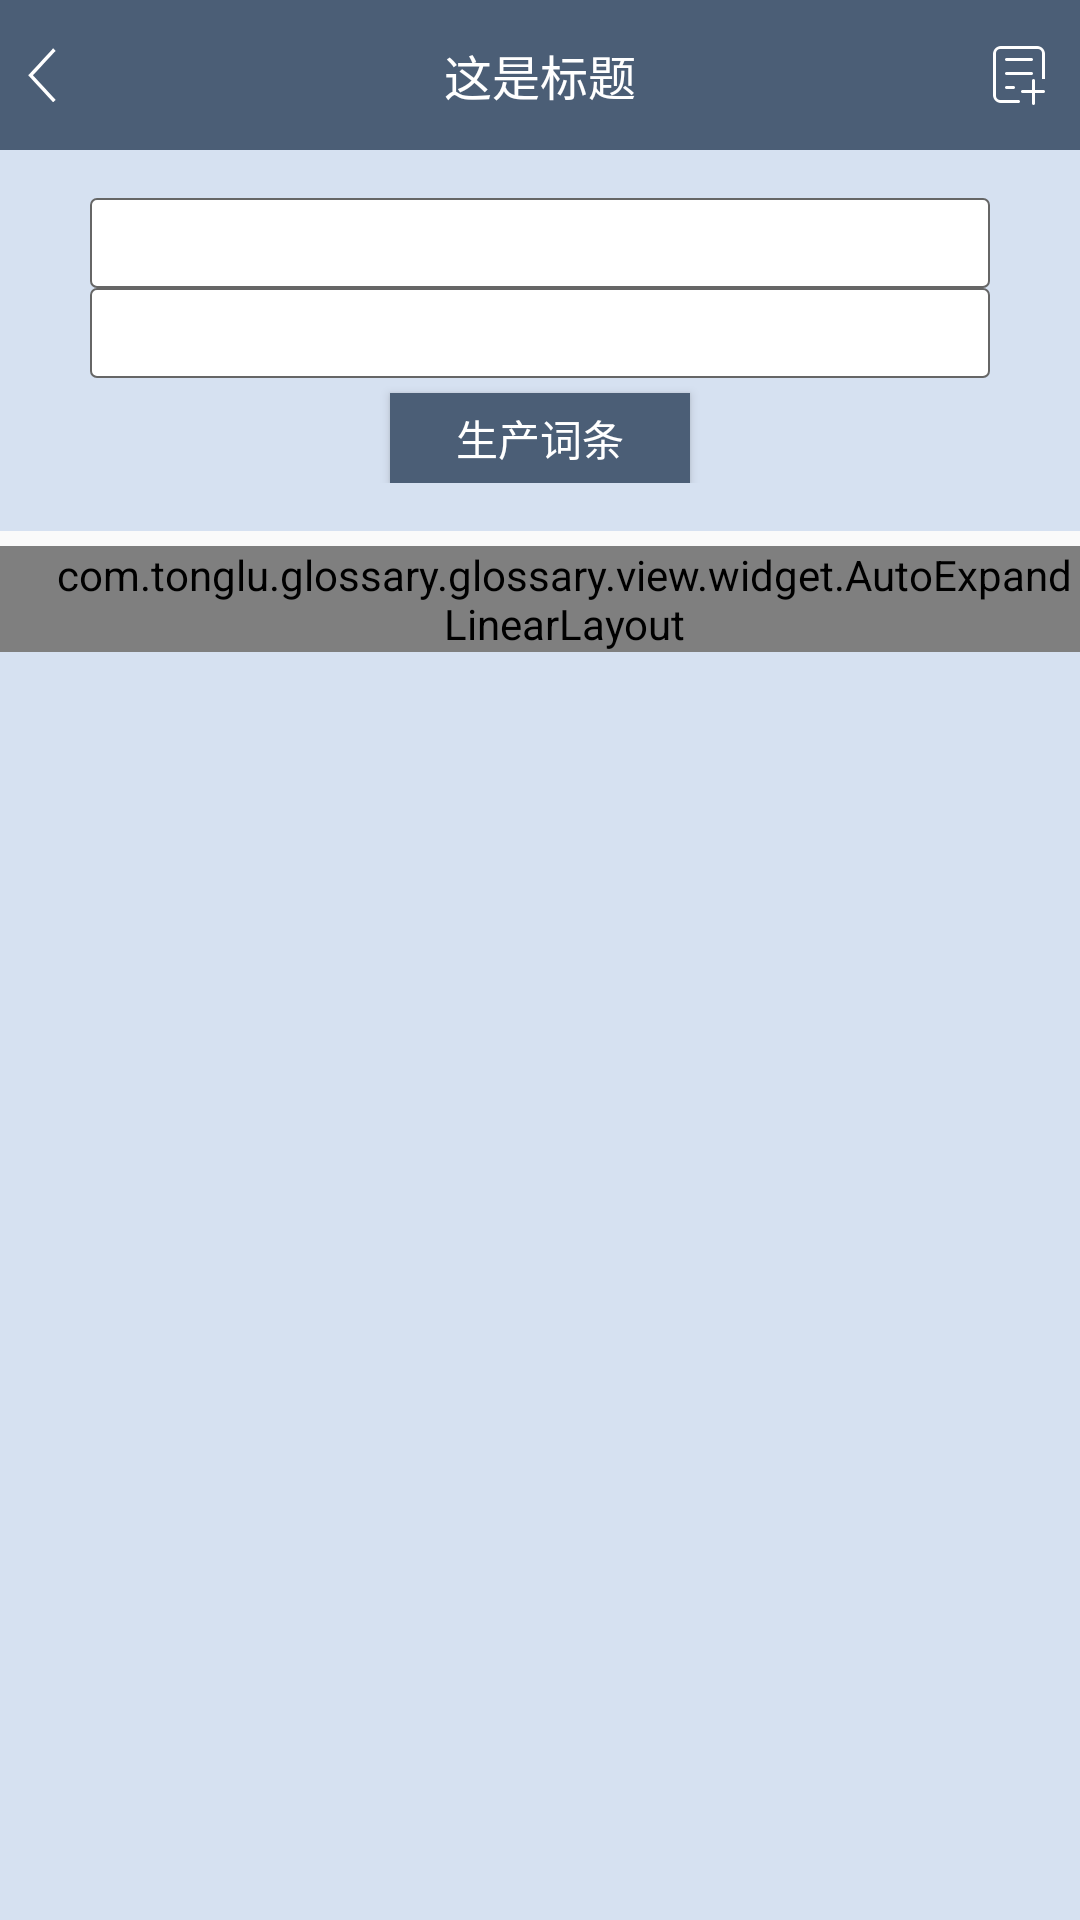

Screen size 1080×1920. Icon name, then its center in pixels as (x,y):
add: (1019,75)
back: (42,75)
